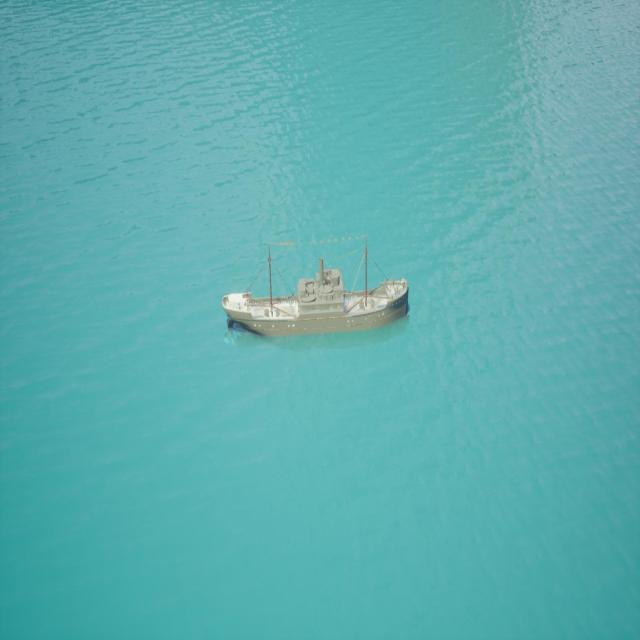fishing ship: (223, 240, 411, 339)
